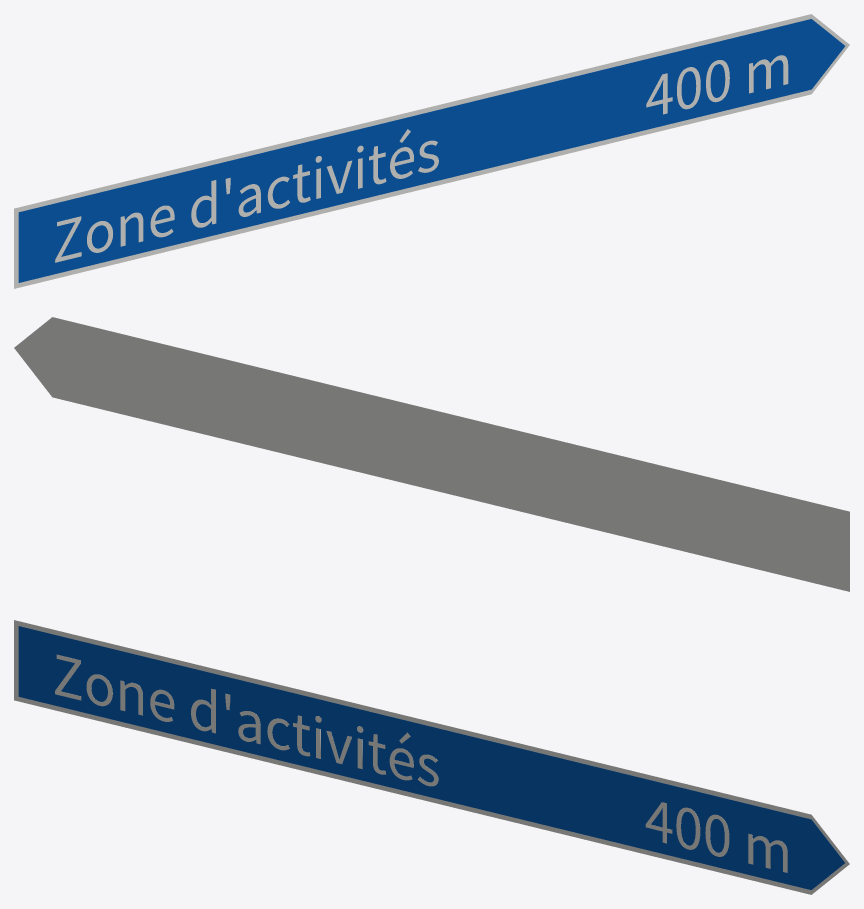
The picture shows the model from 3 angles, top to bottom: view 1: azimuth 30°, elevation 25°; view 2: azimuth 150°, elevation 25°; view 3: azimuth 330°, elevation 25°; orthographic projection.
Visible parts, largest first — view 1: Dc29_reg01, Dc29_lis00, Dc29_txt02, Dc29_txt03; view 2: Dc29_lis00; view 3: Dc29_reg01, Dc29_lis00, Dc29_txt02, Dc29_txt03.
Boxes of the visible parts, <box> form: Dc29_reg01: <box>18,19,844,282</box>; Dc29_lis00: <box>14,14,849,288</box>; Dc29_txt02: <box>55,129,438,262</box>; Dc29_txt03: <box>646,55,788,114</box>; Dc29_lis00: <box>14,317,849,591</box>; Dc29_reg01: <box>18,626,844,889</box>; Dc29_lis00: <box>14,620,849,894</box>; Dc29_txt02: <box>55,654,438,786</box>; Dc29_txt03: <box>645,802,787,872</box>.
Size of the model in its own units: 2.72 by 0.25 by 0.0016.
